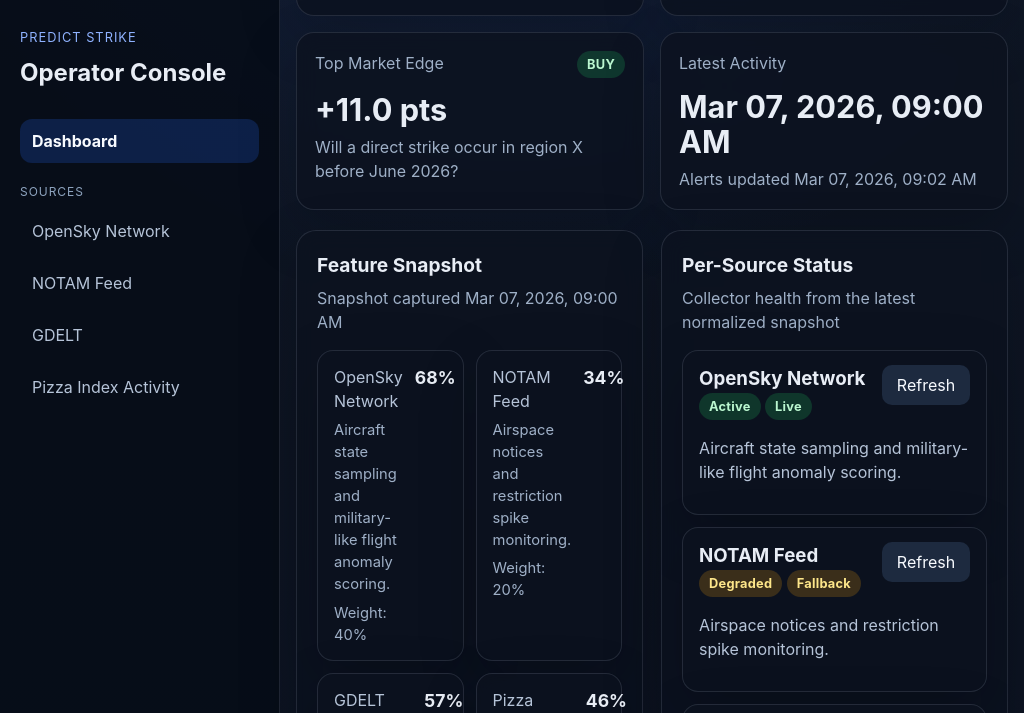
Test: App › refreshes an individual source from the source list
The image size is (1024, 713).
(page scrolled)
What coordinates should you click on to do the following:
click the button with aria-label "Refresh source OpenSky Network"
I would click on:
 (926, 385)
Its box is [882,365,970,405].
(page scrolled)
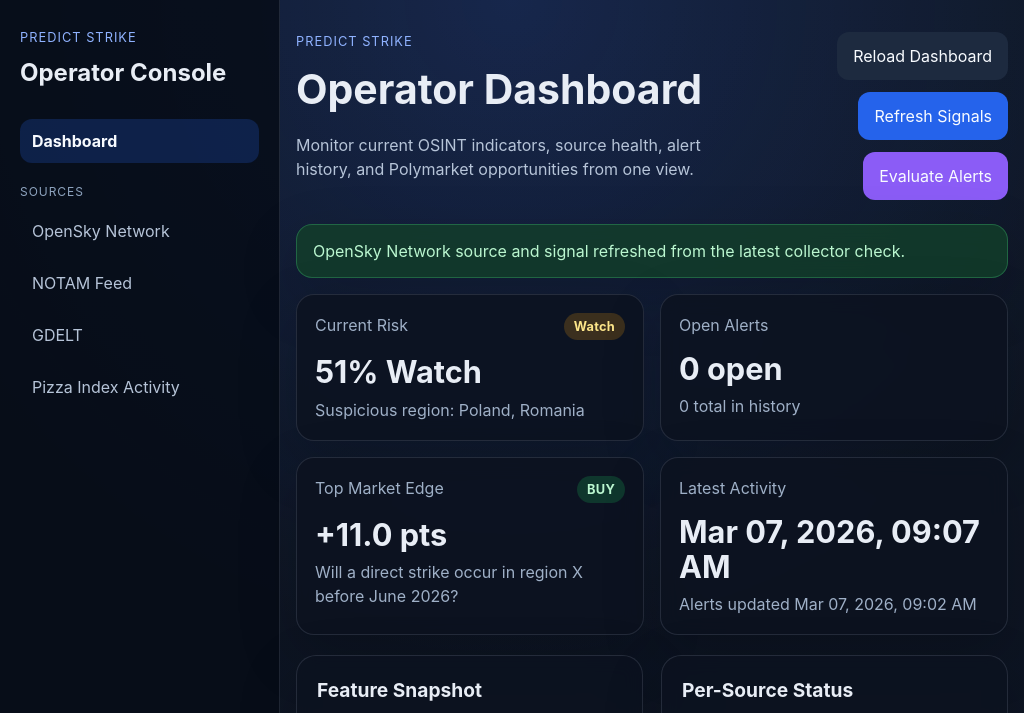
Now the text "OpenSky Network source and signal refreshed from the latest collector check" is shown, box [313,241,905,261]
Now the text "51% Watch" is shown, box [315,353,482,390]
